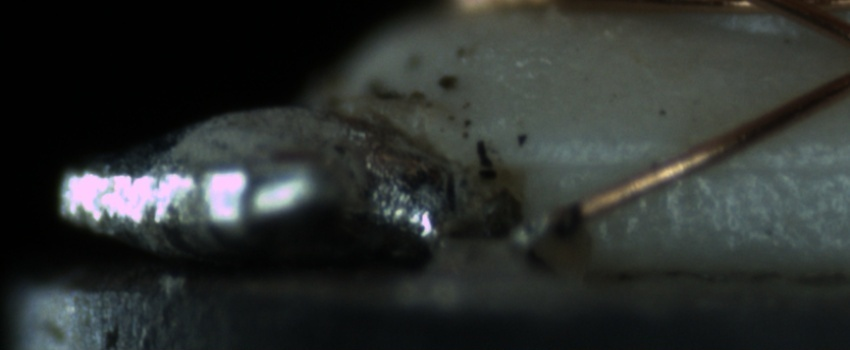DL: (552, 135, 850, 196)
